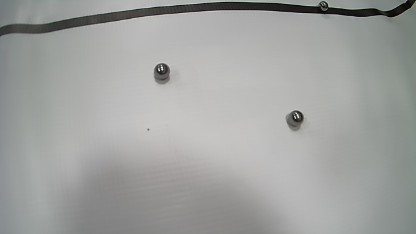ironball: (154, 63, 170, 83), (287, 110, 304, 127), (318, 1, 328, 11)
